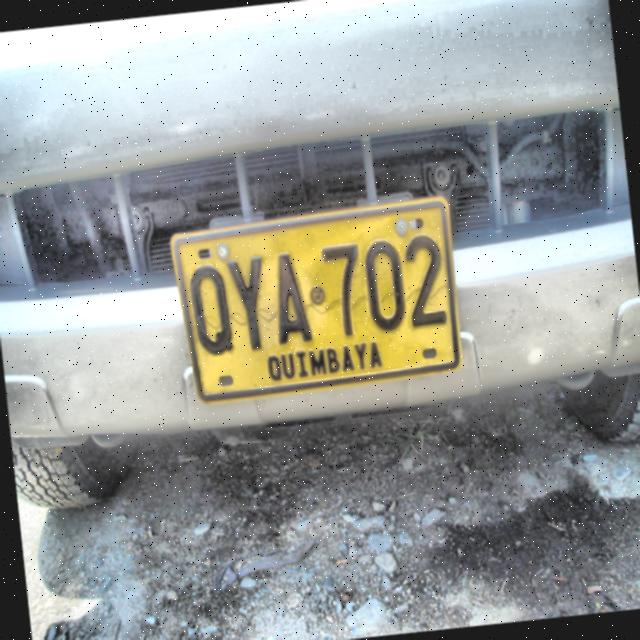plate: (170, 195, 462, 406)
